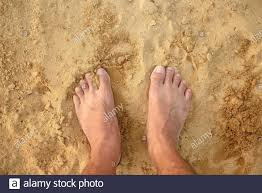Feet: (71, 67, 123, 167), (145, 64, 193, 165)
